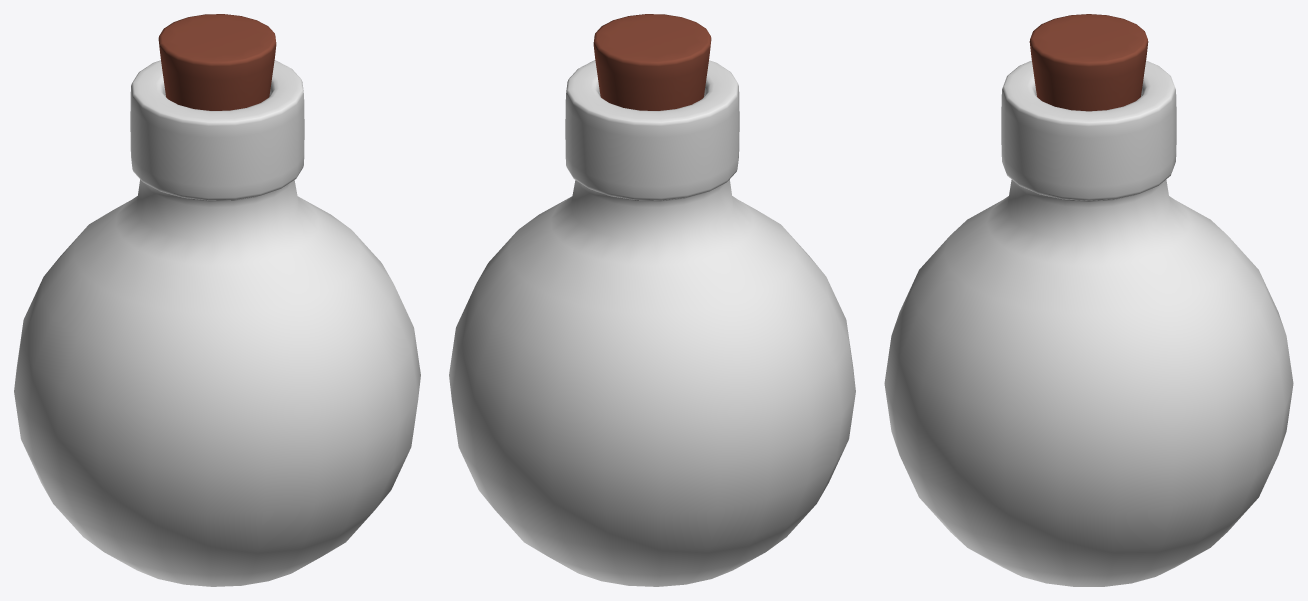
Rendered from SM_PoisonBottle.fbx.
The picture shows the model from 3 angles, left to right: view 1: azimuth 30°, elevation 25°; view 2: azimuth 150°, elevation 25°; view 3: azimuth 270°, elevation 25°; orthographic projection.
Parts seen in each view (by area): view 1: SM_PoisonBottle; view 2: SM_PoisonBottle; view 3: SM_PoisonBottle.
Part boxes in pixels (<box>): SM_PoisonBottle: <box>14,14,420,586</box>; SM_PoisonBottle: <box>449,14,855,586</box>; SM_PoisonBottle: <box>884,14,1293,586</box>.
Bounding box in the file's own units: 0.3849 × 0.5575 × 0.3889.
